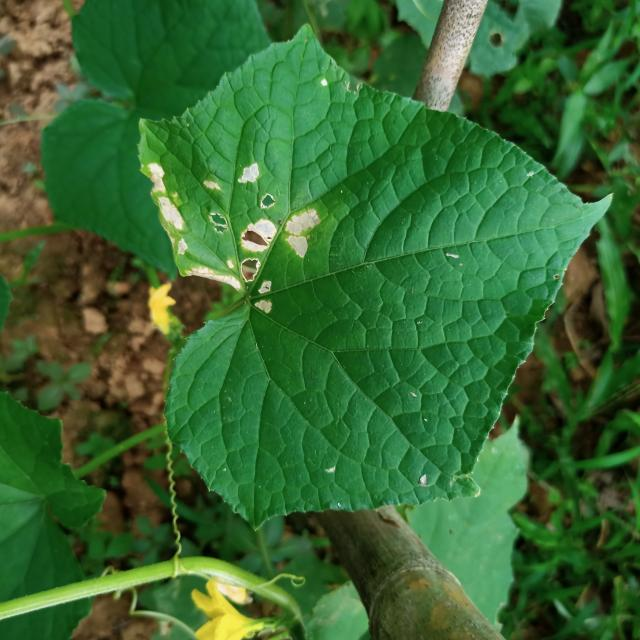disease_cucumber: (151, 163, 320, 317)
